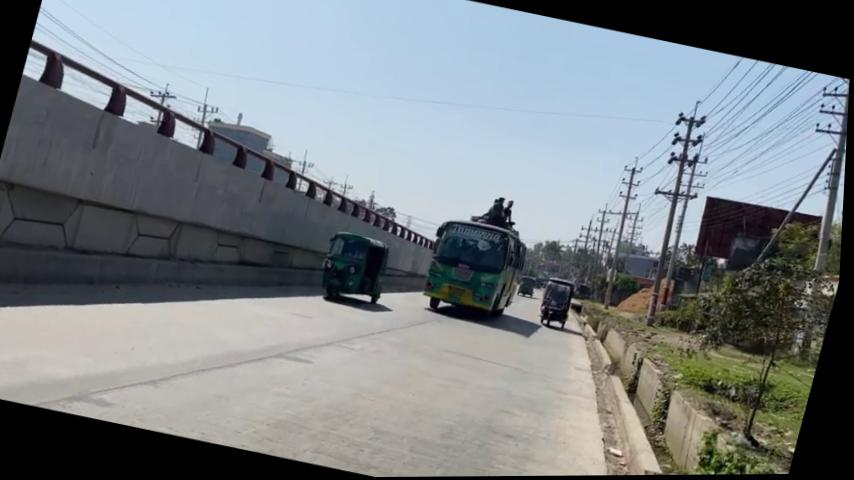Fallen-tree: (0, 35, 472, 308)
Garbage: (756, 75, 851, 359), (626, 97, 715, 327)
Garbage-bin: (624, 410, 802, 476)
Rickshaw: (418, 185, 543, 325), (315, 227, 398, 309)
